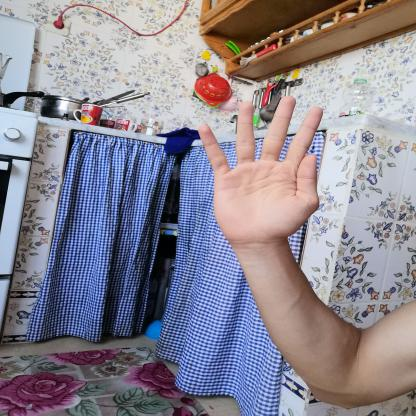SHEEN: (187, 89, 336, 251)
